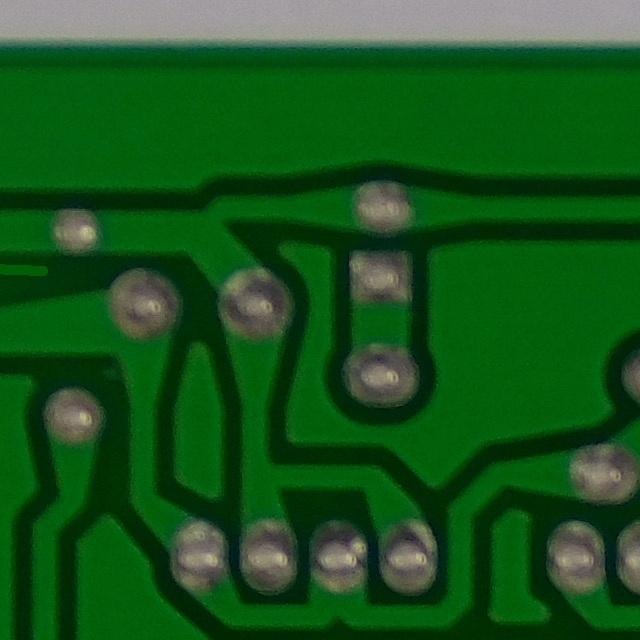spurious_copper: (0, 243, 66, 294)
